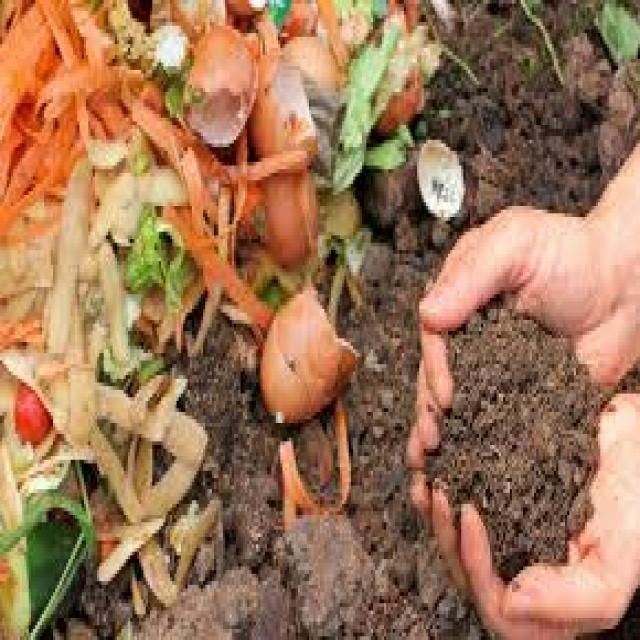Wet: (0, 1, 212, 640), (0, 0, 322, 235), (180, 0, 336, 260), (254, 291, 353, 434), (407, 133, 475, 224), (8, 366, 61, 454)
